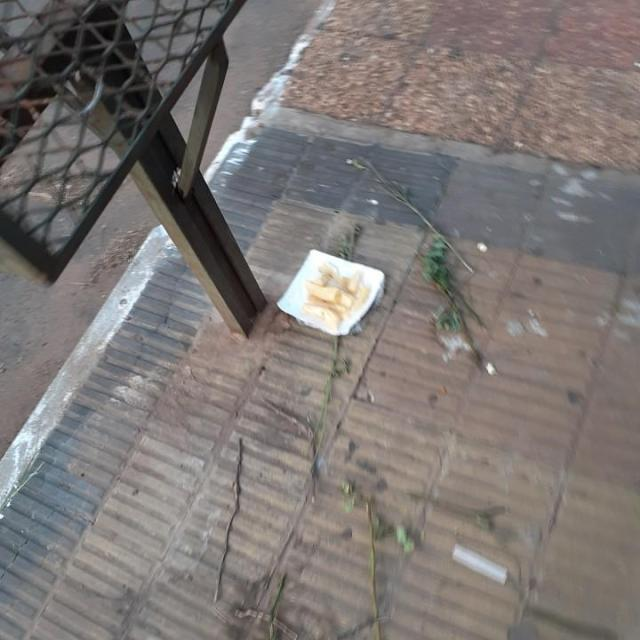litter: (277, 250, 384, 334), (451, 546, 508, 582)
